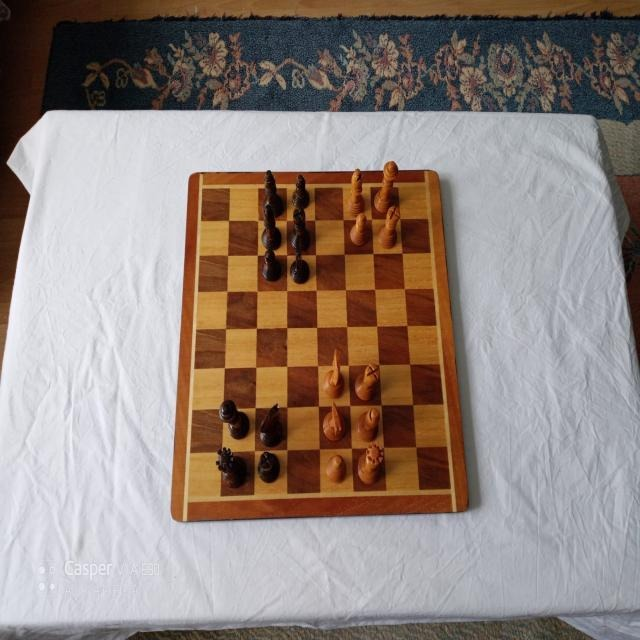black-bishop: (263, 170, 285, 218), (262, 206, 282, 250)
black-king: (218, 398, 250, 439)
black-knight: (258, 402, 284, 446), (289, 237, 310, 285)
black-pawn: (290, 174, 309, 209), (262, 249, 282, 282)
black-queen: (215, 447, 248, 489)
black-rook: (289, 207, 310, 250), (256, 452, 279, 484)
white-bishop: (346, 168, 366, 216), (355, 407, 380, 441)
white-king: (373, 160, 399, 213)
white-knight: (322, 349, 345, 398), (322, 402, 346, 442)
white-pawn: (350, 212, 370, 245), (326, 454, 346, 484)
white-queen: (357, 441, 383, 486)
white-rook: (376, 206, 399, 248), (354, 363, 379, 401)
